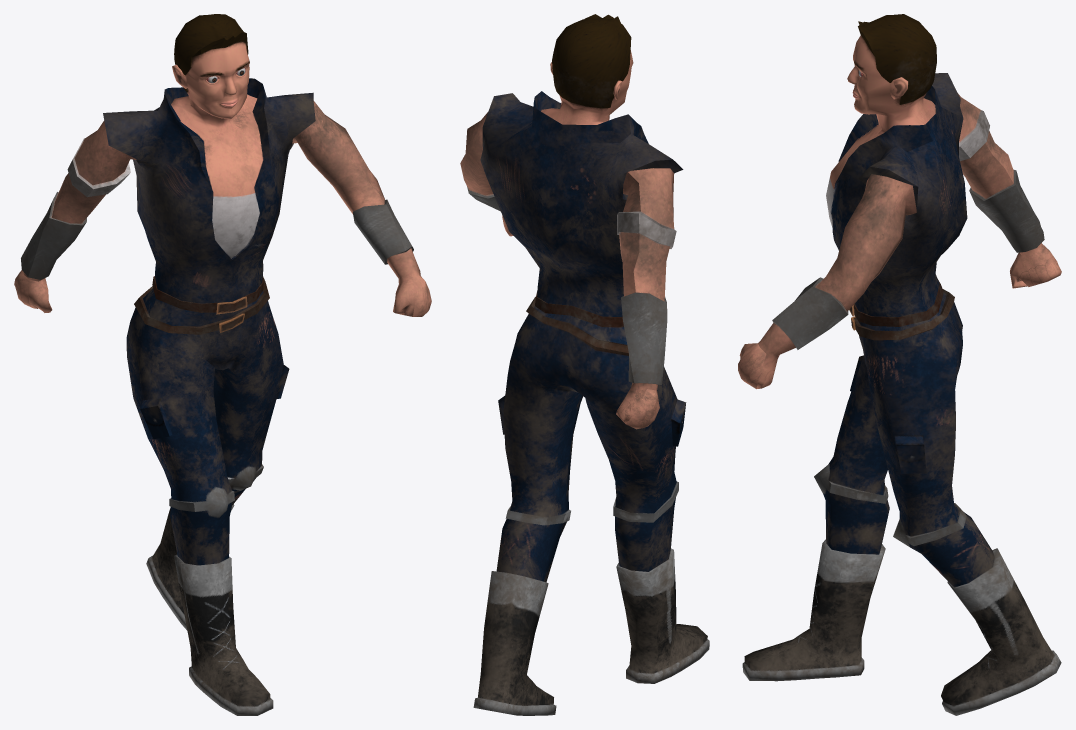
The model's file is Anim_andar_jugador.0026.obj.
3 renders of one model, left to right at view 1: azimuth 30°, elevation 25°; view 2: azimuth 150°, elevation 25°; view 3: azimuth 270°, elevation 25°, orthographic. The views are drawn at different scales.
Parts seen in each view (by area): view 1: Anim_andar_jugador; view 2: Anim_andar_jugador; view 3: Anim_andar_jugador.
Boxes of the visible parts, <box> form: Anim_andar_jugador: <box>14,14,431,715</box>; Anim_andar_jugador: <box>460,14,709,715</box>; Anim_andar_jugador: <box>738,14,1061,715</box>.
Bounding box in the file's own units: 4.38 × 9.69 × 4.19.
2 materials, 2 textured.
